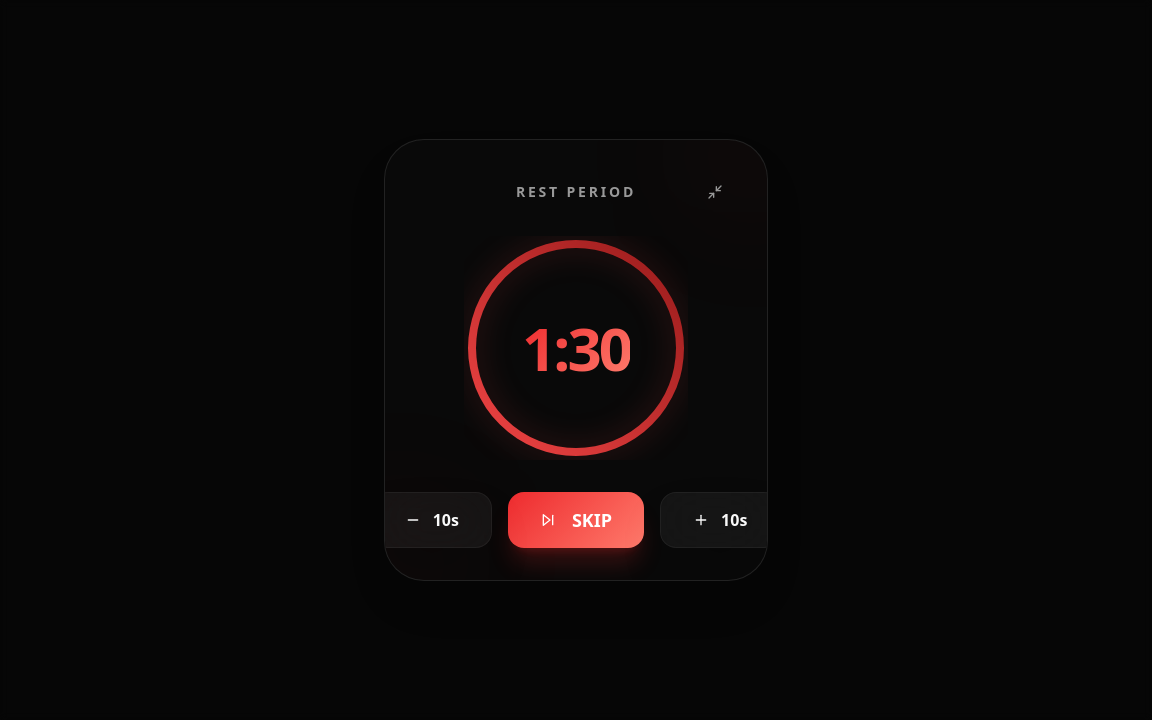
Scenario: RestTimer - Time Adjustments › decrements time by 10 seconds when minus button clicked
The width and height of the screenshot is (1152, 720).
What coordinates should you click on to do the following:
click the 1st button "10s"
I would click on:
 (432, 520)
Its box is [372, 492, 492, 548].
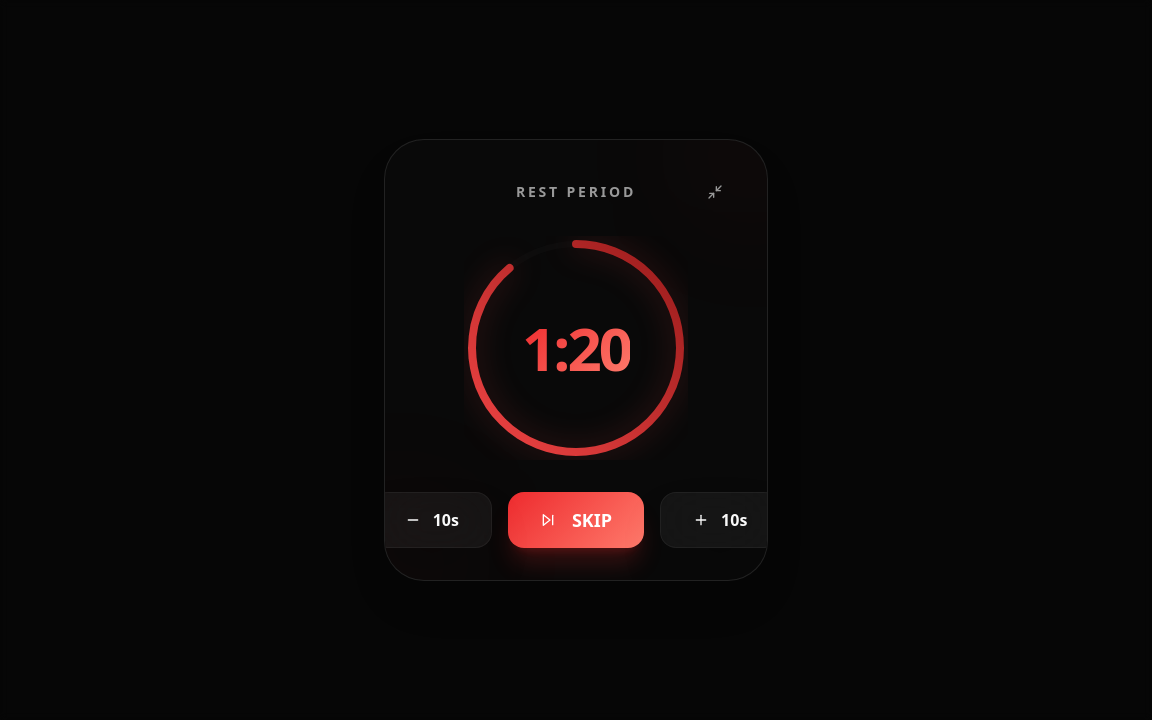
Expected: the text "1:20" is shown, [522, 318, 630, 378]
